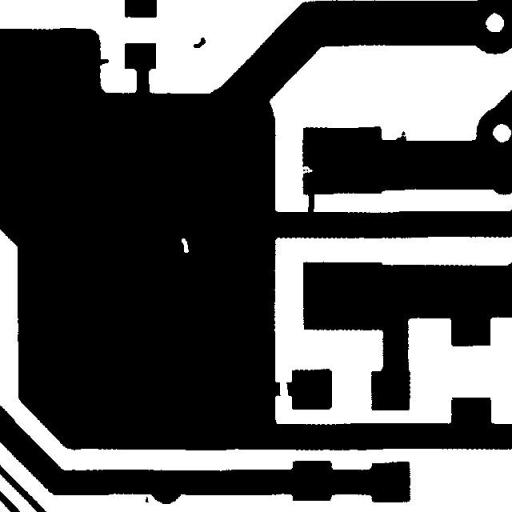copper: (186, 30, 212, 55)
mousebite: (292, 158, 320, 181)
open: (272, 373, 296, 408)
pin-hole: (174, 230, 196, 260)
short: (300, 184, 322, 222)
spur: (388, 123, 414, 150), (90, 51, 116, 73)
